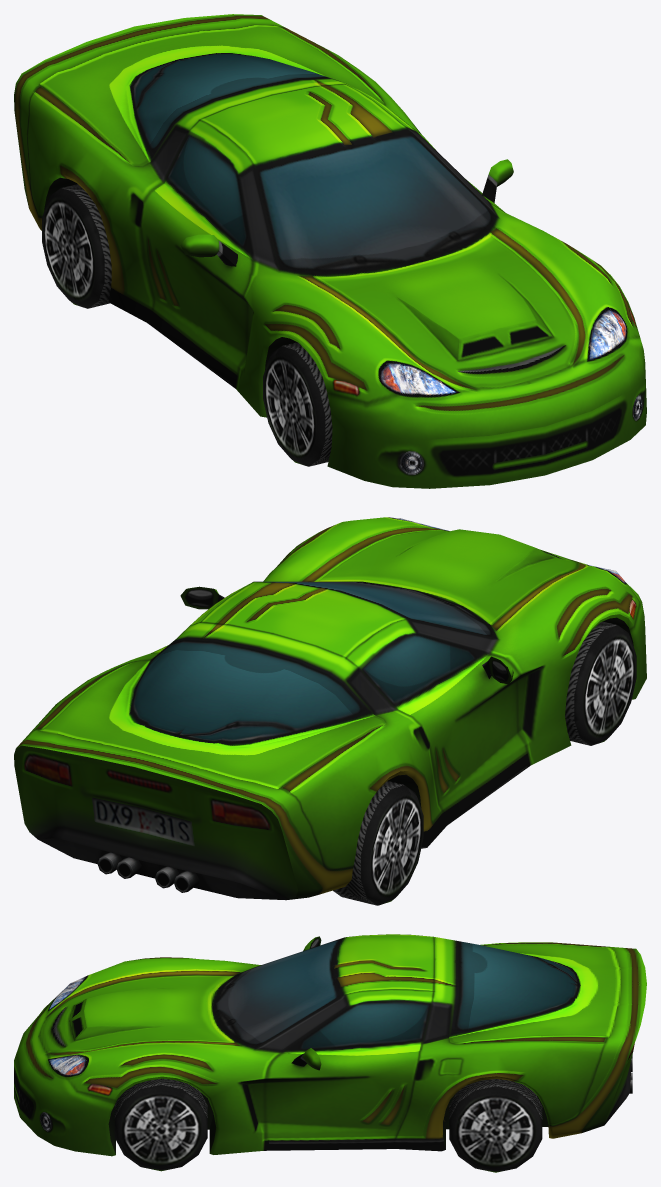
3 renders of one model, top to bottom at view 1: azimuth 30°, elevation 25°; view 2: azimuth 150°, elevation 25°; view 3: azimuth 270°, elevation 25°, orthographic. The views are drawn at different scales.
Parts seen in each view (by area): view 1: player_chassis, veh_wheel_b, veh_wheel_fr; view 2: player_chassis, veh_wheel_b, veh_wheel_fr; view 3: player_chassis, veh_wheel_b, veh_wheel_fl.
Part boxes in pixels (x1=…): player_chassis: x1=14, y1=14, x2=646, y2=488; veh_wheel_b: x1=42, y1=184, x2=111, y2=308; veh_wheel_fr: x1=263, y1=342, x2=332, y2=466; player_chassis: x1=14, y1=517, x2=646, y2=900; veh_wheel_b: x1=333, y1=781, x2=423, y2=905; veh_wheel_fr: x1=565, y1=621, x2=636, y2=745; player_chassis: x1=14, y1=934, x2=646, y2=1156; veh_wheel_b: x1=449, y1=1079, x2=542, y2=1172; veh_wheel_fl: x1=114, y1=1078, x2=207, y2=1171.
Bounding box in the file's own units: 202 × 119 × 434.
